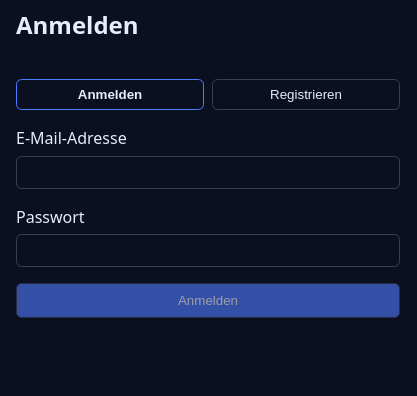
AuthView › zeigt bei fehlgeschlagener Anmeldung die generische Servermeldung
The width and height of the screenshot is (417, 396).
Type "captain@example.test" into the field with test id "email-input".
click(208, 172); type("captain@example.test")  # box [16,156,400,189]
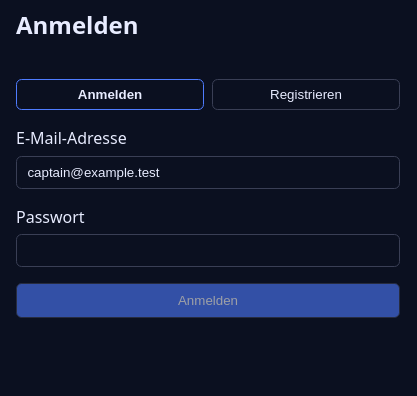
Type "secret" into the password field with test id "password-input".
click(208, 251); type("secret")  # box [16,234,400,267]
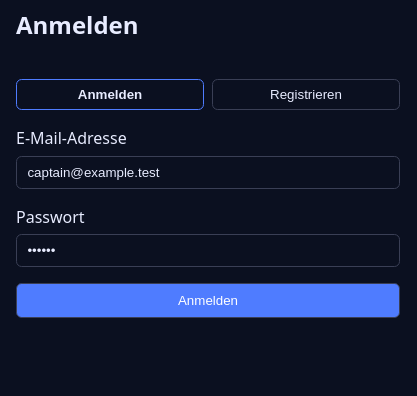
Submit the form, box [16,126,400,318]
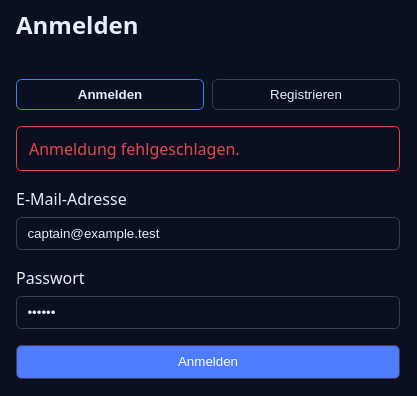
expect the message with test id "form-error" reads "Anmeldung fehlgeschlagen.": met, box [29,138,240,160]
